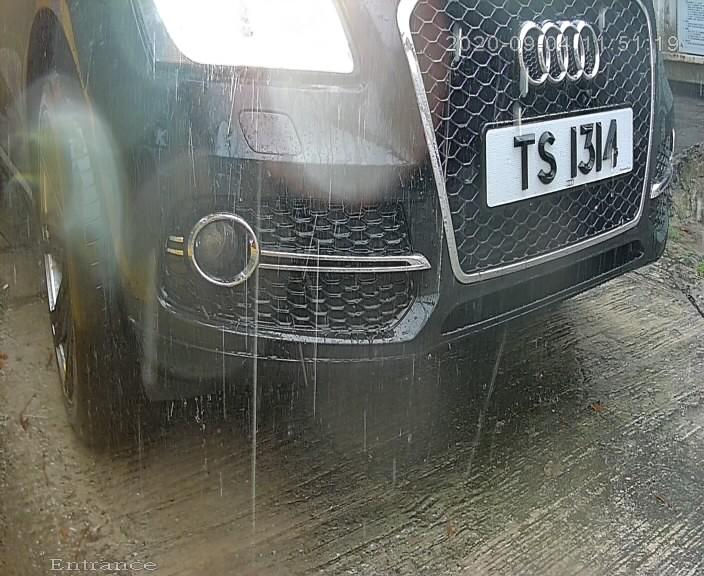Car: (19, 6, 704, 448)
License Plate: (485, 85, 642, 217)
